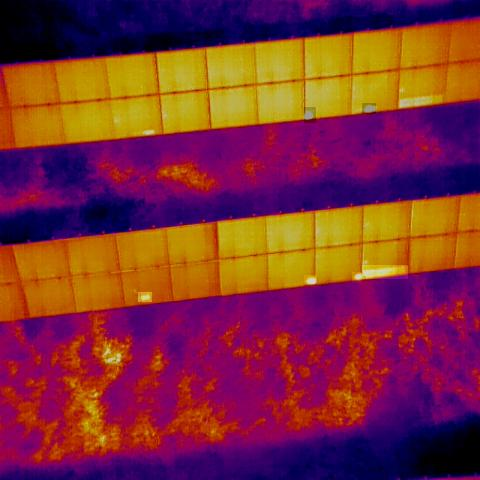fault: (399, 94, 446, 110), (362, 265, 408, 279), (304, 107, 316, 123), (362, 103, 376, 114), (304, 276, 317, 287), (138, 292, 152, 302), (140, 129, 156, 136), (352, 272, 362, 283)
